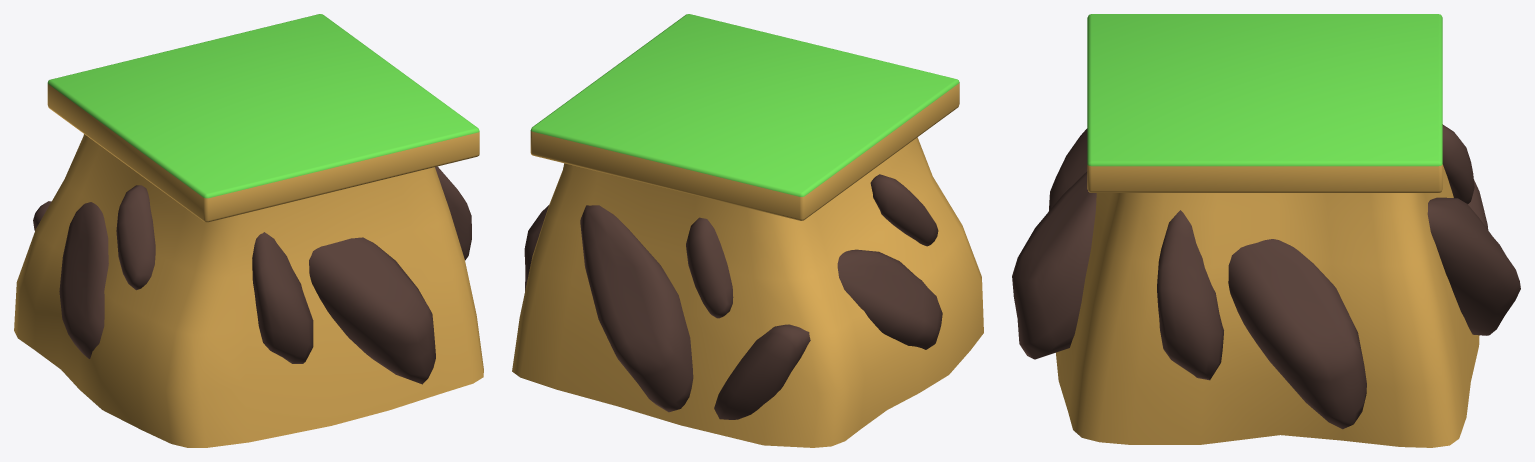
File: Island.fbx
The picture shows the model from 3 angles, left to right: view 1: azimuth 30°, elevation 25°; view 2: azimuth 150°, elevation 25°; view 3: azimuth 270°, elevation 25°; orthographic projection. The views are drawn at different scales.
Parts seen in each view (by area): view 1: Cube.003, Cube.002, Cube.004, Cube.005, Cube, Cube.001, Cube.009; view 2: Cube.003, Cube.002, Cube.007, Cube.005, Cube.008, Cube.006, Cube.001, Cube.010; view 3: Cube.003, Cube.002, Cube.010, Cube.004, Cube.009, Cube.007, Cube.006, Cube.
Boxes of the visible parts, box(x1,y1,x2,y2) form: Cube.003: box(14, 134, 483, 447); Cube.002: box(47, 14, 479, 222); Cube.004: box(309, 237, 435, 384); Cube.005: box(59, 202, 108, 358); Cube: box(252, 232, 313, 363); Cube.001: box(116, 185, 155, 290); Cube.009: box(435, 166, 471, 260); Cube.003: box(512, 137, 983, 447); Cube.002: box(530, 14, 959, 220); Cube.007: box(580, 205, 693, 412); Cube.005: box(837, 249, 942, 349); Cube.008: box(714, 324, 810, 419); Cube.006: box(686, 217, 733, 318); Cube.001: box(870, 174, 938, 246); Cube.010: box(524, 205, 548, 290); Cube.003: box(1056, 164, 1479, 447); Cube.002: box(1087, 14, 1442, 192); Cube.010: box(1228, 239, 1366, 429); Cube.004: box(1012, 171, 1096, 359); Cube.009: box(1157, 210, 1223, 380); Cube.007: box(1427, 197, 1520, 335); Cube.006: box(1442, 124, 1474, 203); Cube: box(1048, 128, 1087, 211).
Size of the model in its own units: 2797 by 1711 by 2866.
